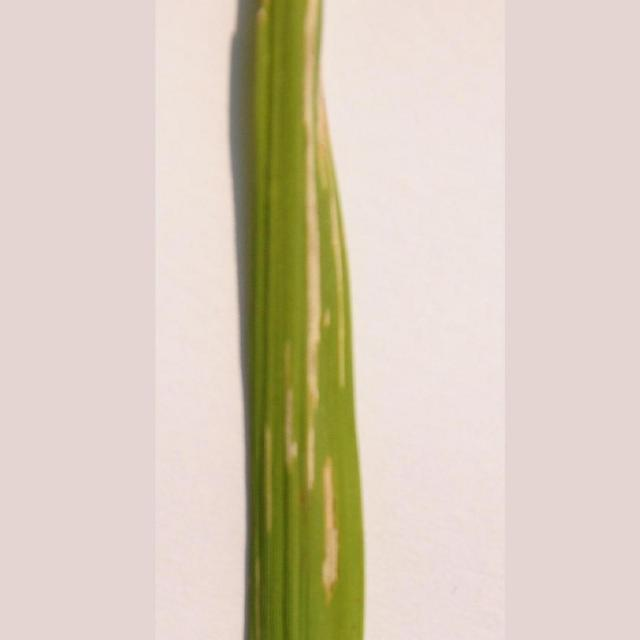leaf blight: (244, 1, 362, 600)
